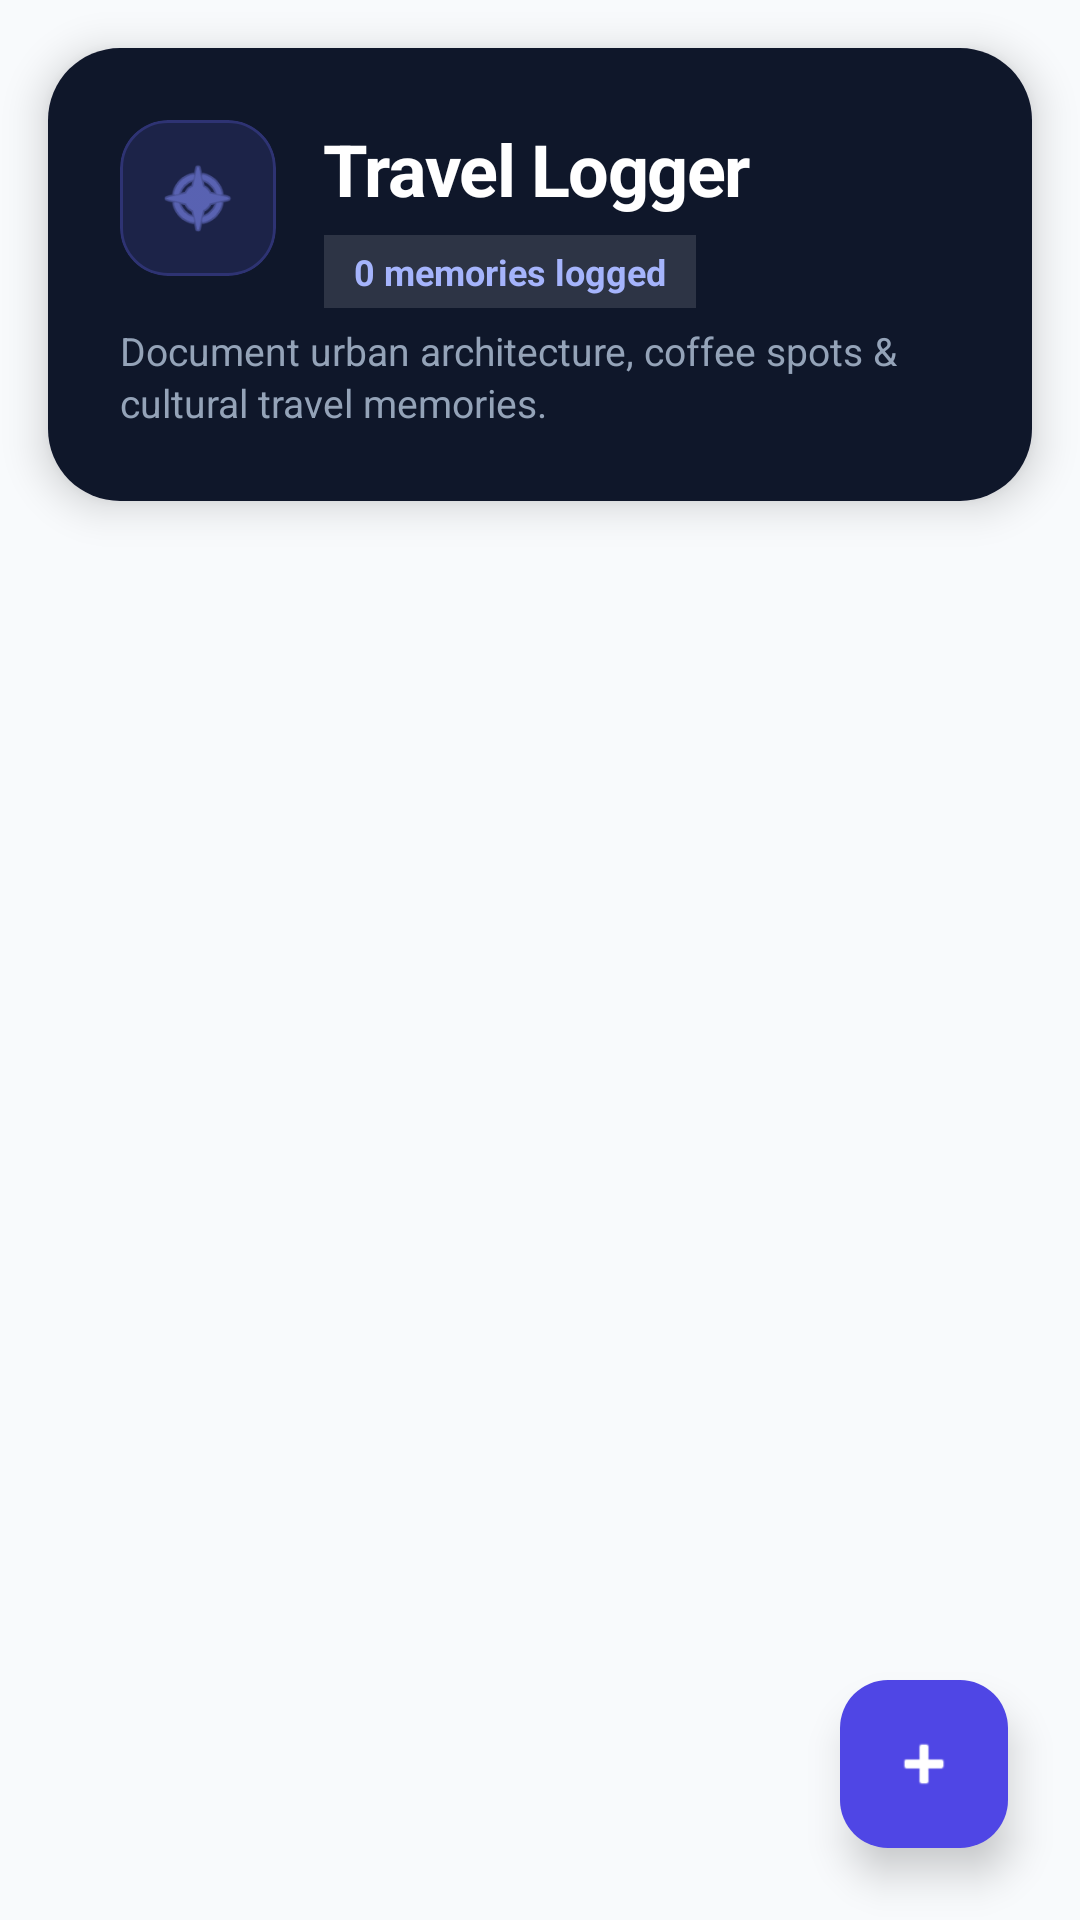

Where to tap for icons on this 1080px x 1920px app screen, as point (x, y):
Add New Memory: point (924, 1764)
compass: point (198, 198)
